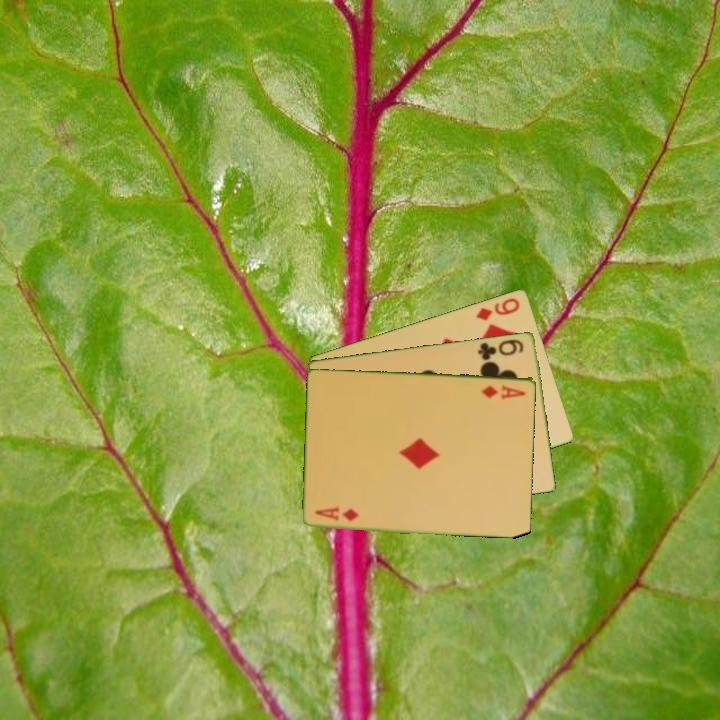6c: (474, 335, 527, 363)
9d: (473, 294, 523, 323)
Ad: (479, 381, 529, 401), (312, 504, 362, 523)
